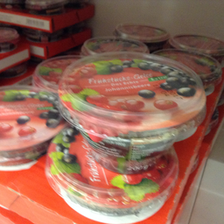jam: (57, 50, 207, 174), (48, 127, 178, 224)
